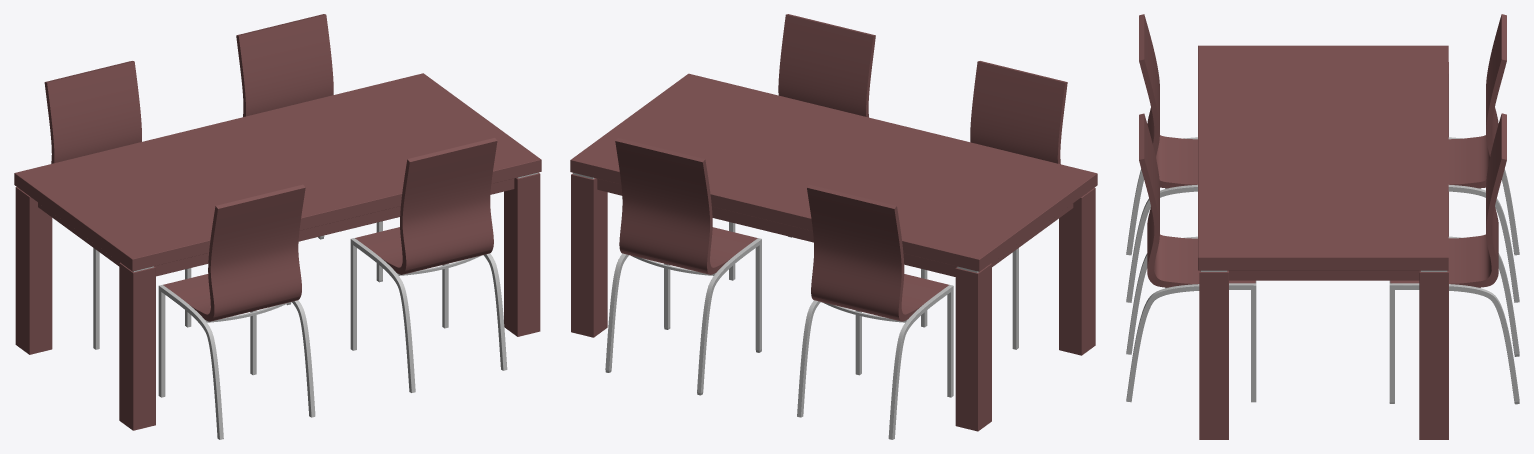
The model's file is set.fbx.
The picture shows the model from 3 angles, left to right: view 1: azimuth 30°, elevation 25°; view 2: azimuth 150°, elevation 25°; view 3: azimuth 270°, elevation 25°; orthographic projection. The views are drawn at different scales.
Parts seen in each view (by area): view 1: Box013; view 2: Box013; view 3: Box013.
Part boxes in pixels (x1,y1,x2,y2): Box013: [14, 14, 541, 439]; Box013: [570, 14, 1097, 439]; Box013: [1126, 14, 1519, 439].
Size of the model in its own units: 78.74 by 42.31 by 61.74.
